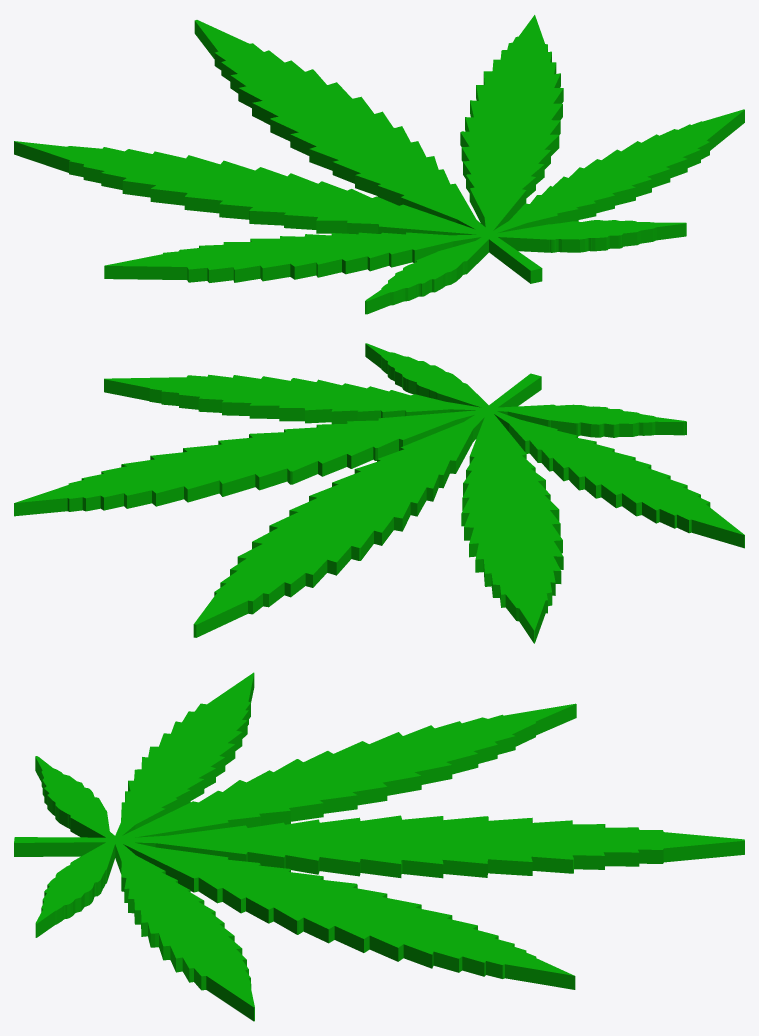
The model's file is sativa.glb.
The picture shows the model from 3 angles, top to bottom: view 1: azimuth 30°, elevation 25°; view 2: azimuth 150°, elevation 25°; view 3: azimuth 270°, elevation 25°; orthographic projection. The views are drawn at different scales.
Visible parts, largest first — view 1: SarivaLeaf; view 2: SarivaLeaf; view 3: SarivaLeaf.
Part boxes in pixels (box(x1,y1,x2,y2)): SarivaLeaf: box(14, 15, 744, 314); SarivaLeaf: box(14, 343, 744, 643); SarivaLeaf: box(14, 672, 744, 1021).
Bounding box in the file's own units: 0.2715 × 0.00532 × 0.2503.
1 material, 1 textured.
